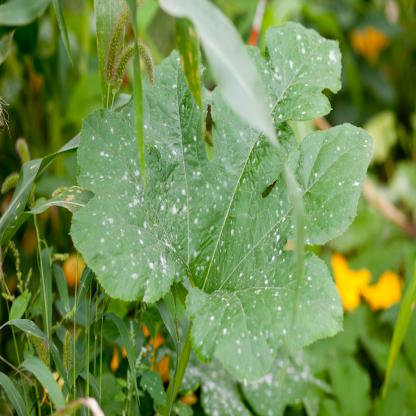squash powdery mildew leaf: (181, 259, 350, 366), (69, 187, 187, 304), (128, 42, 208, 202), (283, 114, 374, 245), (207, 78, 285, 196), (262, 25, 345, 127)
